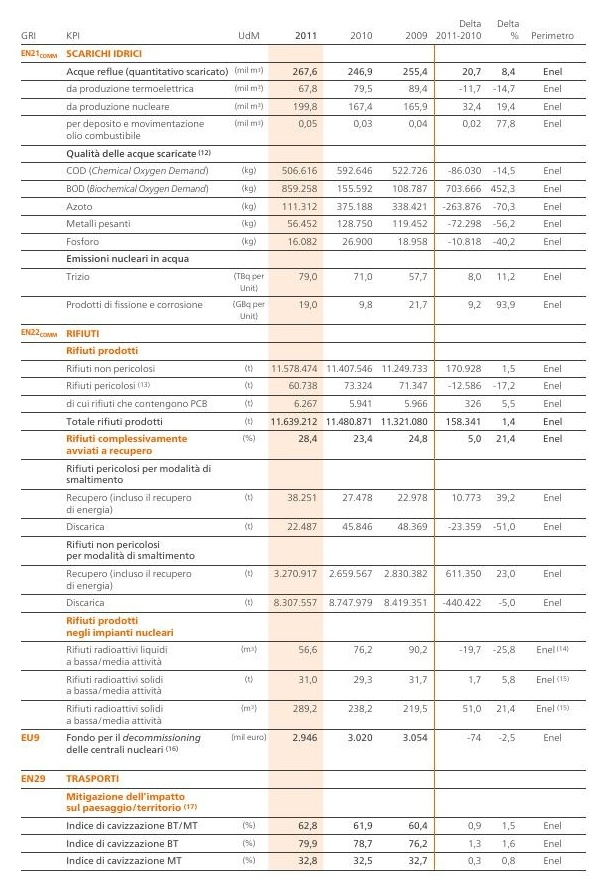table: (0, 0, 605, 888)
